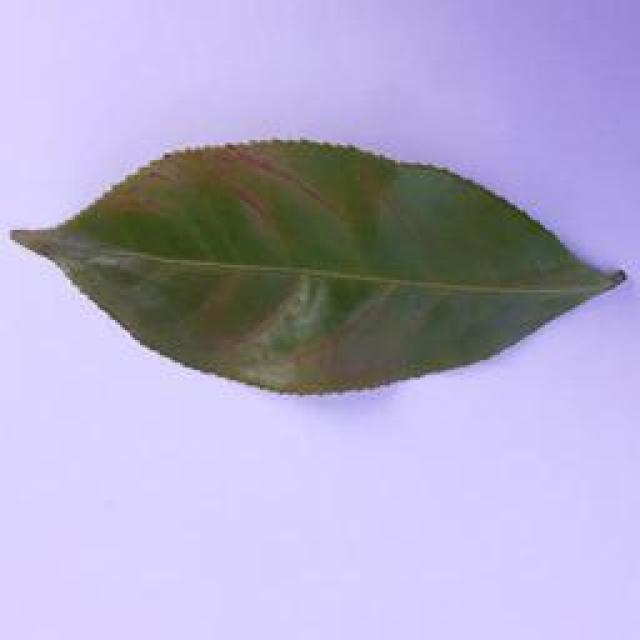Red Leaf Spot: (0, 144, 640, 407)
